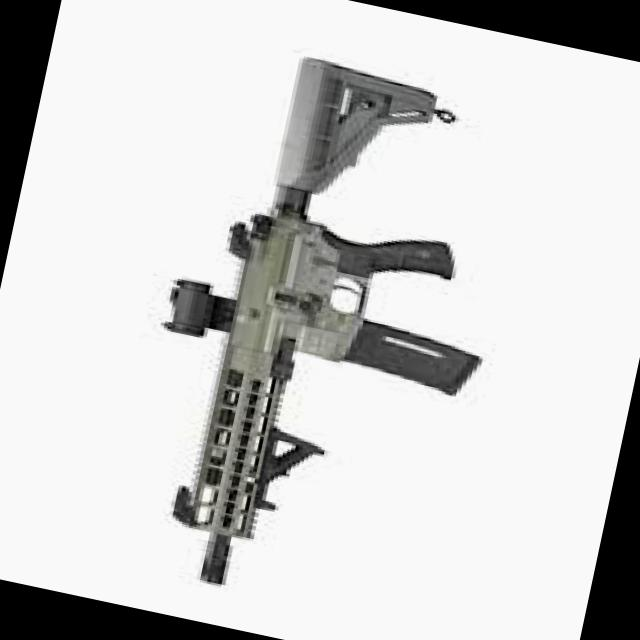long weapon: (112, 34, 516, 636)
